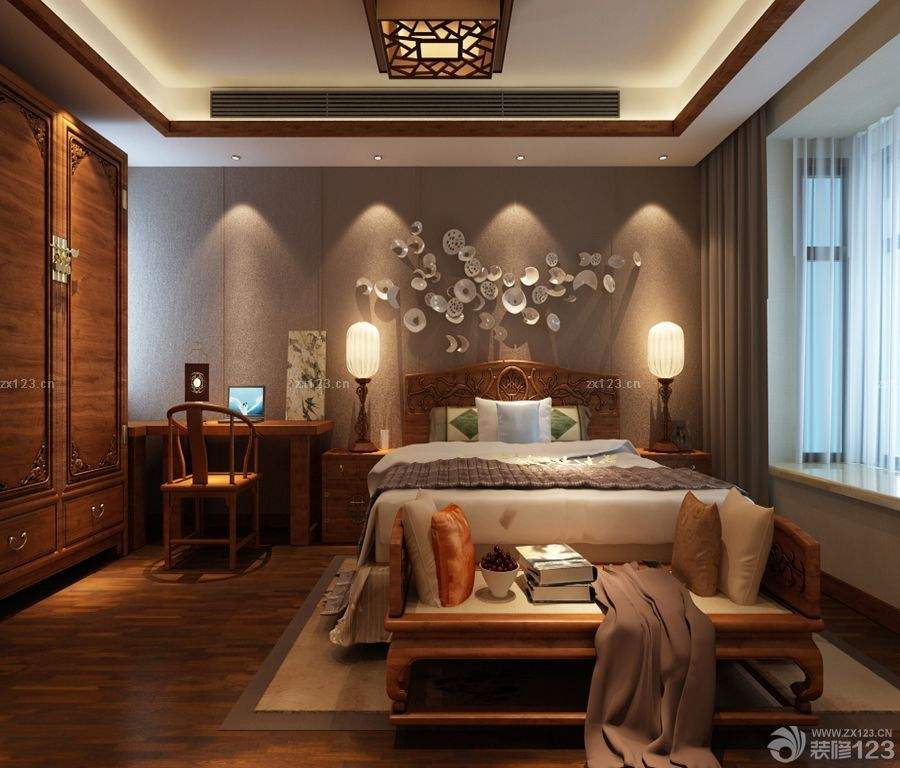床: (355, 442, 739, 678)
枕头: (680, 493, 770, 608), (392, 501, 482, 612), (454, 395, 593, 443)
灯: (646, 316, 696, 451), (336, 307, 383, 445), (651, 153, 672, 168), (224, 151, 244, 165), (367, 152, 387, 165), (513, 152, 533, 165)
